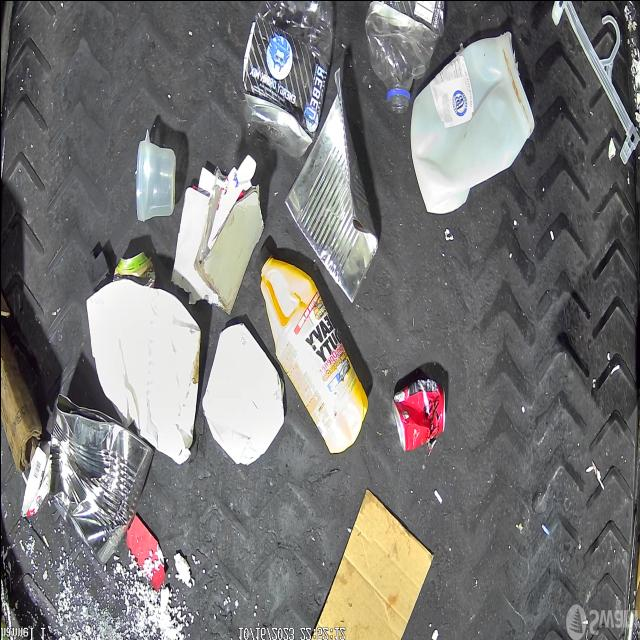can: (40, 388, 148, 564), (390, 378, 444, 453), (116, 252, 154, 284)
milk_jug: (408, 29, 534, 212)
non_white_jug: (254, 246, 364, 457)
plastic_bottle: (241, 0, 332, 160), (364, 0, 446, 112)
